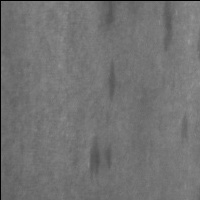inclusion: (86, 135, 117, 183), (160, 1, 177, 54), (103, 57, 121, 103), (177, 108, 193, 147)
